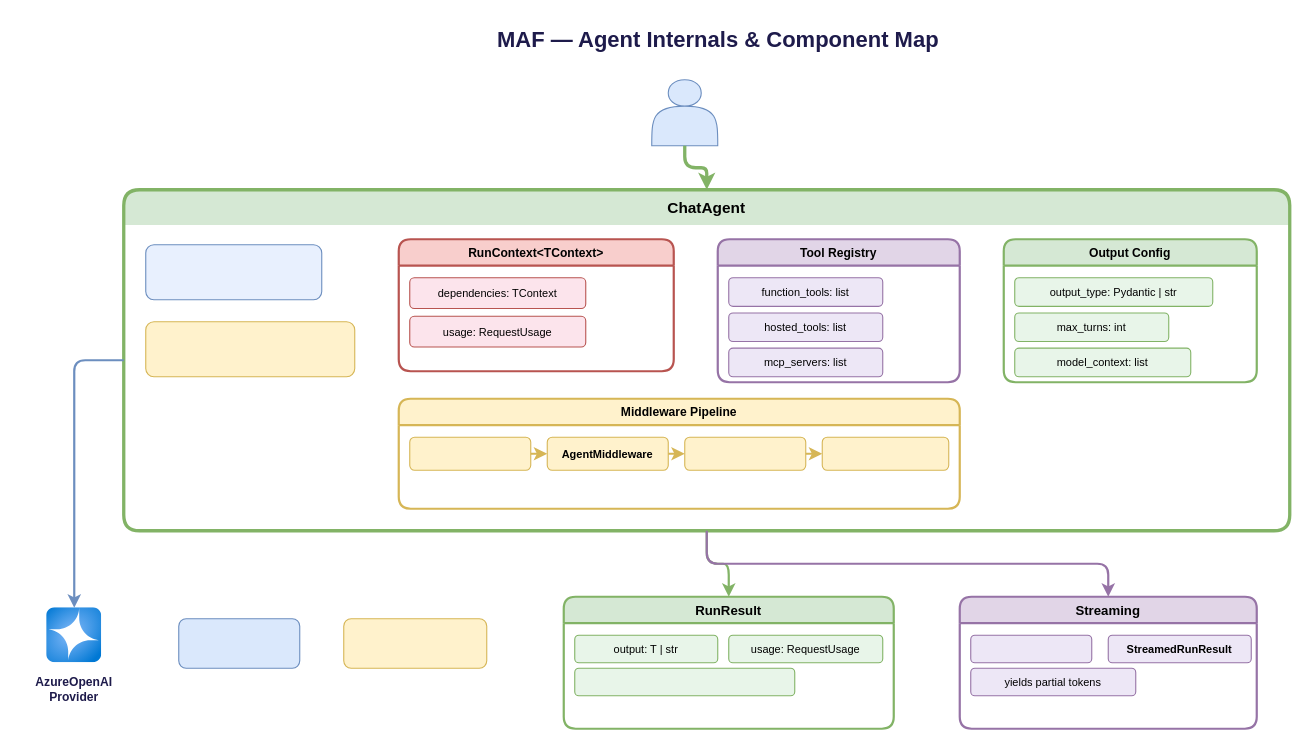
The diagram is 1310 pixels wide and 748 high, and some of its shapes have lost their labels. Here are the shapes that lost their labels. From the top down, the centre of each, then its label:
At [684,112]: "User Input".
At [233,272]: "SystemMessage (instruction)".
At [250,349]: "ModelClient (AzureOpenAI / OpenAI)".
At [470,453]: "RunMiddleware".
At [745,453]: "ChatMiddleware".
At [885,453]: "FunctionMiddleware".
At [239,643]: "OpenAI Provider".
At [415,643]: "AzureAIAgents Provider".
At [1031,648]: "run_stream()".
At [684,681]: "messages: list[ChatMessage]".
